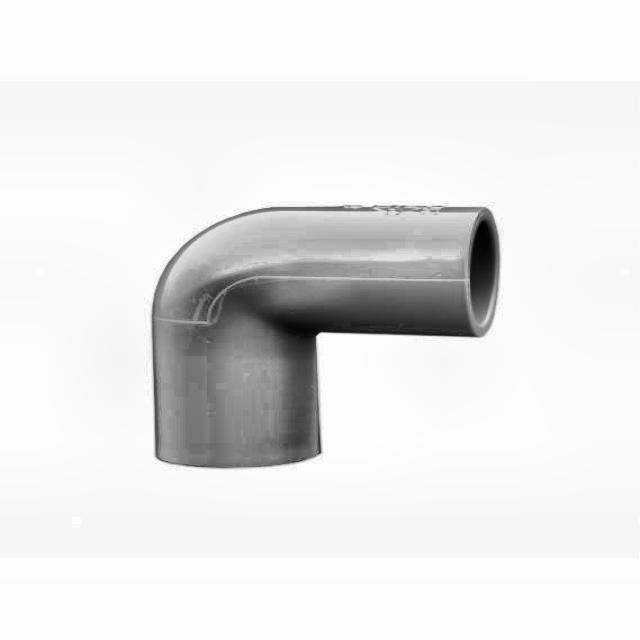ELBOW90: (148, 203, 504, 471)
